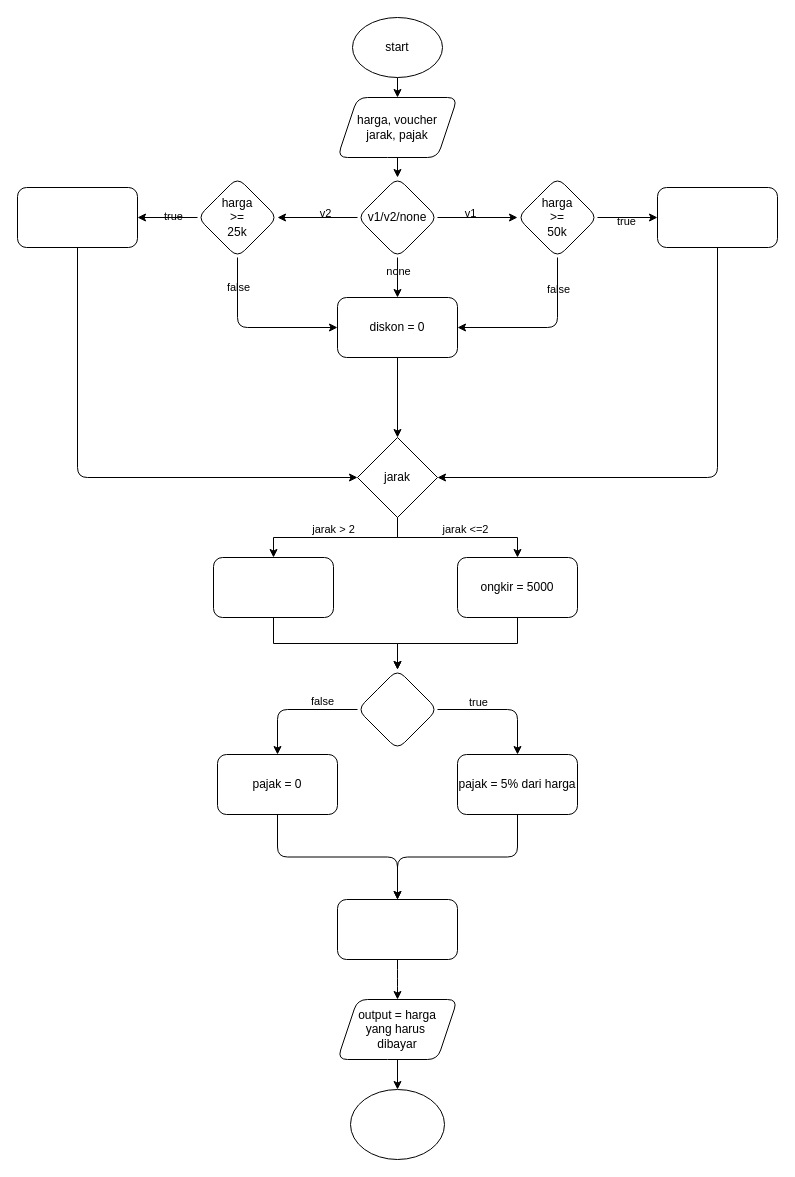
The diagram is 795 pixels wide and 1177 high, and some of its shapes have lost their labels. The shapes that lost their labels are listed below. From the top down, each one's centre as x and y in pixels, then its label:
At point 77,217: "diskon = min(0.6 * harga, 30000)".
At point 717,217: "diskon = min(0.5 * harga, 50000)".
At point 273,587: "ongkir = 5000+(3000*(jarak -2)".
At point 397,709: "pajak".
At point 397,929: "total = harga - diskon + ongkir + pajak".
At point 397,1124: "end".
